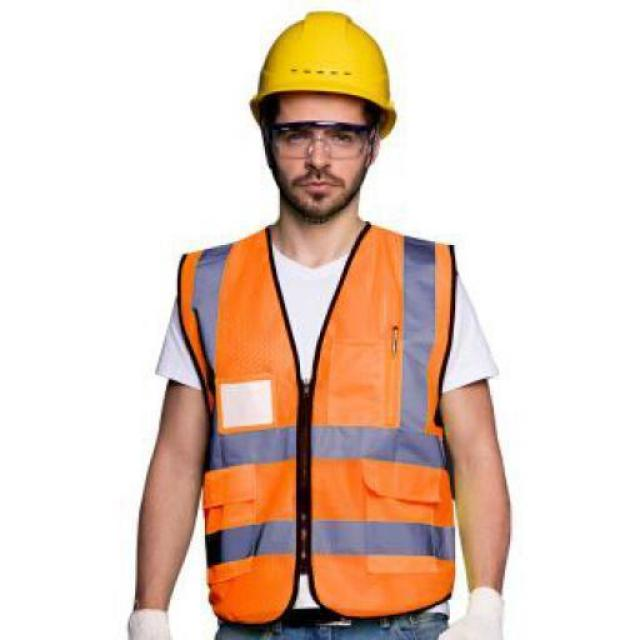vest: (184, 238, 463, 606)
